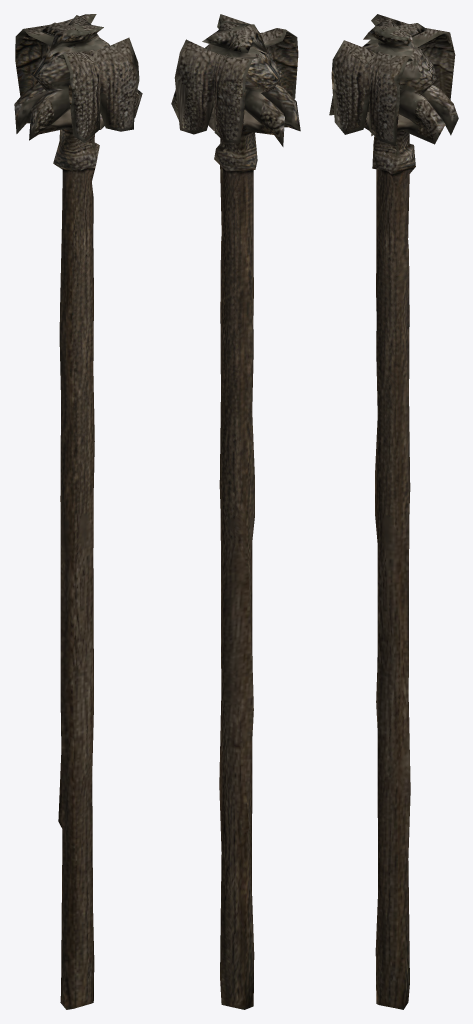
File: prop_pole.glb
3 renders of one model, left to right at view 1: azimuth 30°, elevation 25°; view 2: azimuth 150°, elevation 25°; view 3: azimuth 330°, elevation 25°, orthographic.
Parts seen in each view (by area): view 1: tripo_node_6ef51aab-57d9-44a6-8723-69e91185708e; view 2: tripo_node_6ef51aab-57d9-44a6-8723-69e91185708e; view 3: tripo_node_6ef51aab-57d9-44a6-8723-69e91185708e.
Part boxes in pixels (x1,y1,x2,y2): tripo_node_6ef51aab-57d9-44a6-8723-69e91185708e: (14, 14, 142, 1009); tripo_node_6ef51aab-57d9-44a6-8723-69e91185708e: (171, 14, 300, 1009); tripo_node_6ef51aab-57d9-44a6-8723-69e91185708e: (329, 14, 458, 1009).
Bounding box in the file's own units: 0.1204 × 0.9804 × 0.1048.
1 material, 1 textured.
